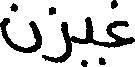X: (0, 0, 41, 57), (43, 2, 70, 66), (106, 0, 134, 52), (87, 12, 92, 66)
